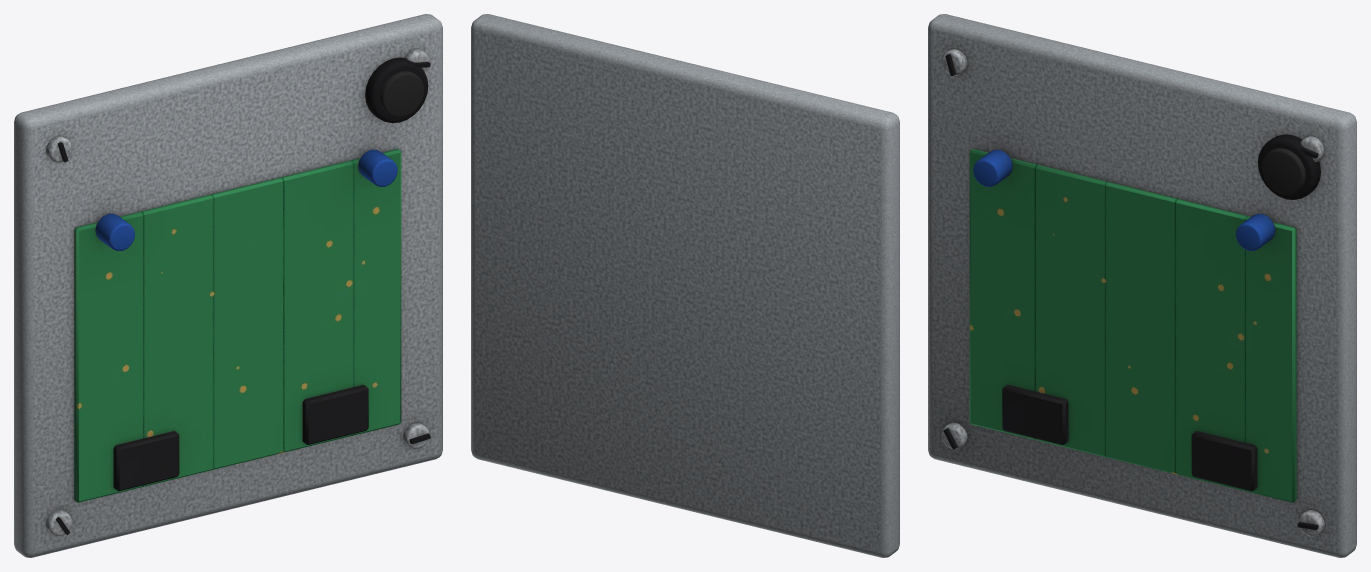
File: panel.glb
The picture shows the model from 3 angles, left to right: view 1: azimuth 30°, elevation 25°; view 2: azimuth 150°, elevation 25°; view 3: azimuth 330°, elevation 25°; orthographic projection.
Parts seen in each view (by area): view 1: panel, led; view 2: panel; view 3: panel, led.
Boxes of the visible parts, x1,y1,x2,y2 form: panel: (14,14,442,557); led: (380,71,424,117); panel: (471,14,899,557); panel: (928,14,1356,557); led: (1261,148,1305,194).
Bounding box in the file's own units: 0.8 × 0.8 × 0.11.
Materials: 2 (1 with a texture image).
